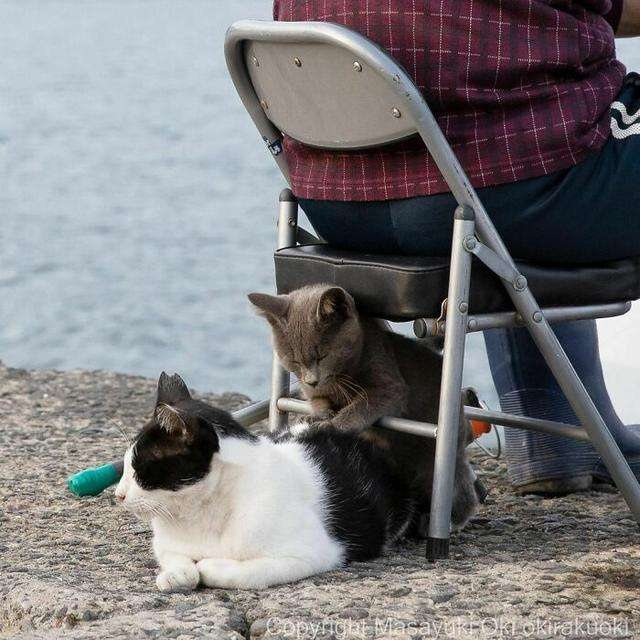cat: (113, 370, 488, 591), (246, 281, 480, 533)
